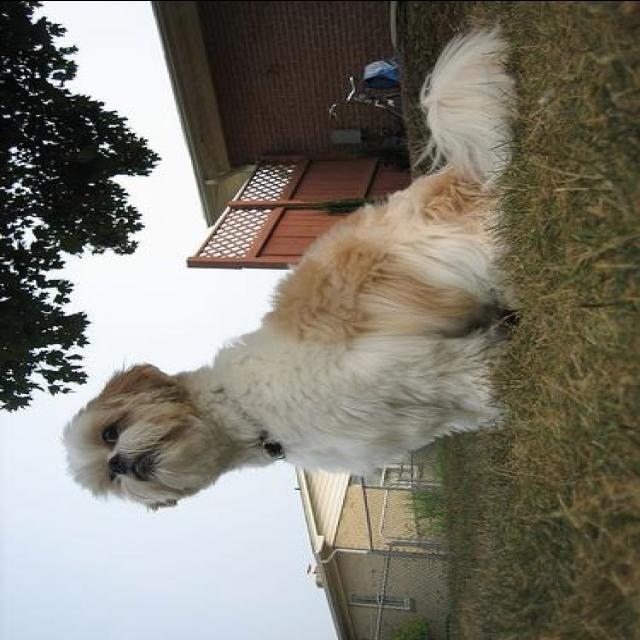shih_tzu: (60, 27, 518, 511)
